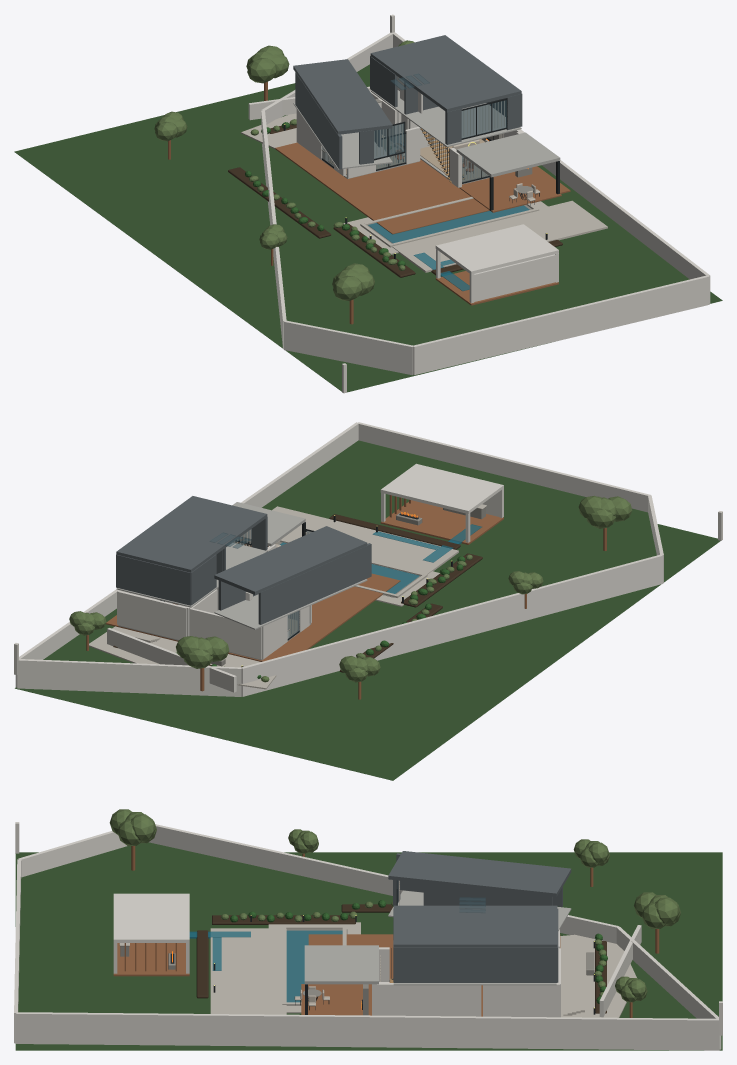
Rendered from modern-villa__rNG5b4u.glb.
The picture shows the model from 3 angles, top to bottom: view 1: azimuth 30°, elevation 25°; view 2: azimuth 150°, elevation 25°; view 3: azimuth 270°, elevation 25°; orthographic projection. The views are drawn at different scales.
Visible parts, largest first — view 1: Distant_Ground, Property_Lawn_Base, Boundary_RetainingWall_2, Villa_Perimeter_Deck, Upper_Diagonal_Roof, South_Main_Terrace, Boundary_RetainingWall_1, Upper_South_Roof, Pavilion_Roof, Boundary_RetainingWall_3, Covered_Patio_Roof, Upper_East_Roof (+19 smaller); view 2: Distant_Ground, Property_Lawn_Base, Boundary_RetainingWall_5, Boundary_RetainingWall_4, Boundary_RetainingWall_2, Upper_Diagonal_Roof, Upper_Diagonal_WestWall, South_Main_Terrace, Boundary_RetainingWall_3, Pavilion_Roof, Villa_Perimeter_Deck, Upper_South_Roof (+17 smaller); view 3: Property_Lawn_Base, Boundary_RetainingWall_3, Distant_Ground, South_Main_Terrace, Boundary_RetainingWall_5, Upper_Diagonal_Roof, Upper_South_Roof, Pavilion_Roof, Living_Wall_East, Upper_South_EastWall, Upper_East_Roof, North_Entry_Terrace (+22 smaller).
Part boxes in pixels (bbox=[...]): Distant_Ground: bbox=[14, 83, 722, 392]; Property_Lawn_Base: bbox=[268, 64, 689, 345]; Boundary_RetainingWall_2: bbox=[413, 275, 709, 375]; Villa_Perimeter_Deck: bbox=[275, 142, 570, 234]; Upper_Diagonal_Roof: bbox=[293, 59, 392, 134]; South_Main_Terrace: bbox=[392, 200, 607, 272]; Boundary_RetainingWall_1: bbox=[284, 320, 413, 375]; Upper_South_Roof: bbox=[404, 60, 521, 112]; Pavilion_Roof: bbox=[435, 224, 558, 274]; Boundary_RetainingWall_3: bbox=[392, 32, 710, 303]; Covered_Patio_Roof: bbox=[456, 132, 560, 177]; Upper_East_Roof: bbox=[370, 35, 478, 80]; Distant_Ground: bbox=[15, 524, 720, 780]; Property_Lawn_Base: bbox=[43, 440, 656, 663]; Boundary_RetainingWall_5: bbox=[241, 554, 662, 696]; Boundary_RetainingWall_4: bbox=[17, 659, 241, 696]; Boundary_RetainingWall_2: bbox=[358, 422, 650, 512]; Upper_Diagonal_Roof: bbox=[214, 526, 367, 594]; Upper_Diagonal_WestWall: bbox=[258, 543, 371, 624]; South_Main_Terrace: bbox=[272, 506, 458, 576]; Boundary_RetainingWall_3: bbox=[15, 422, 358, 687]; Pavilion_Roof: bbox=[380, 463, 503, 513]; Villa_Perimeter_Deck: bbox=[106, 573, 400, 661]; Upper_South_Roof: bbox=[150, 496, 267, 547]; Property_Lawn_Base: bbox=[18, 842, 696, 1018]; Boundary_RetainingWall_3: bbox=[16, 1012, 719, 1050]; Distant_Ground: bbox=[15, 852, 722, 1050]; South_Main_Terrace: bbox=[210, 928, 286, 1014]; Boundary_RetainingWall_5: bbox=[149, 824, 618, 943]; Upper_Diagonal_Roof: bbox=[388, 851, 571, 896]; Upper_South_Roof: bbox=[393, 905, 484, 947]; Pavilion_Roof: bbox=[113, 893, 189, 942]; Living_Wall_East: bbox=[377, 983, 480, 1016]; Upper_South_EastWall: bbox=[393, 947, 484, 982]; Upper_East_Roof: bbox=[484, 905, 557, 947]; North_Entry_Terrace: bbox=[560, 934, 636, 1017].
Bounding box in the file's own units: 35.9 × 7.89 × 54.11.
